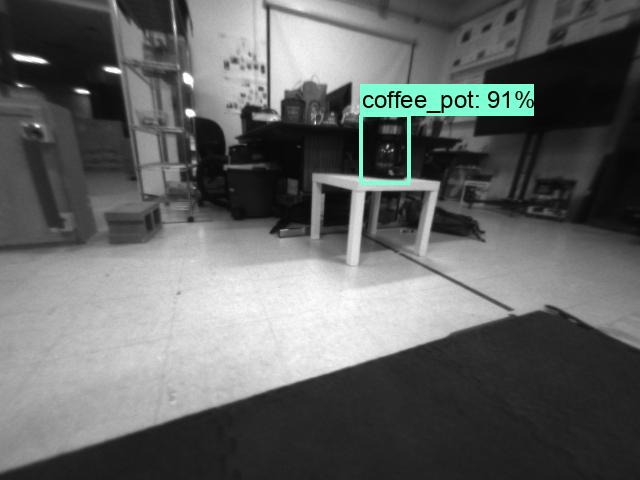coffee_pot: (360, 117, 409, 181)
